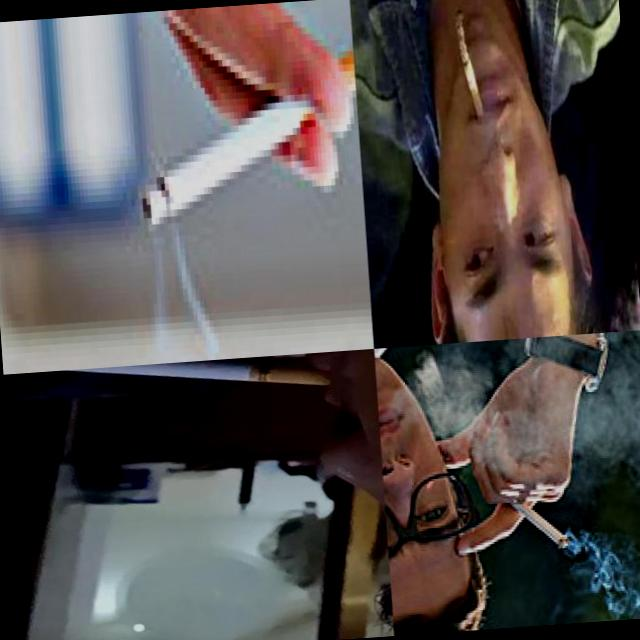cigarette: (131, 48, 364, 229), (53, 352, 333, 405), (506, 491, 569, 555), (455, 18, 484, 124)
